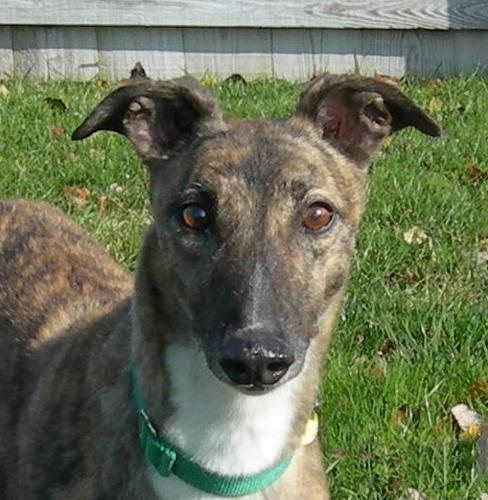dog: (0, 65, 439, 499)
